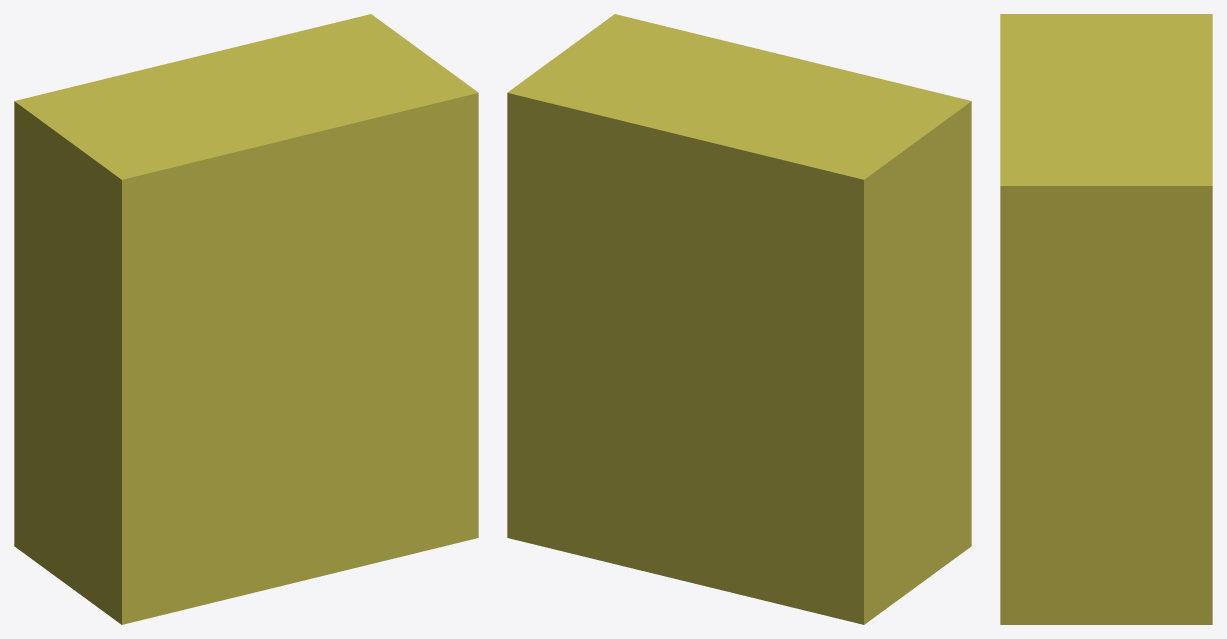
Rendered from Torso.fbx.
3 renders of one model, left to right at view 1: azimuth 30°, elevation 25°; view 2: azimuth 150°, elevation 25°; view 3: azimuth 270°, elevation 25°, orthographic.
Visible parts, largest first — view 1: Torso; view 2: Torso; view 3: Torso.
Part boxes in pixels (left/top/right/bottom): Torso: left=14, top=14, right=478, bottom=624; Torso: left=507, top=14, right=971, bottom=624; Torso: left=1000, top=14, right=1212, bottom=624.
Size of the model in its own units: 90 by 107 by 47.
